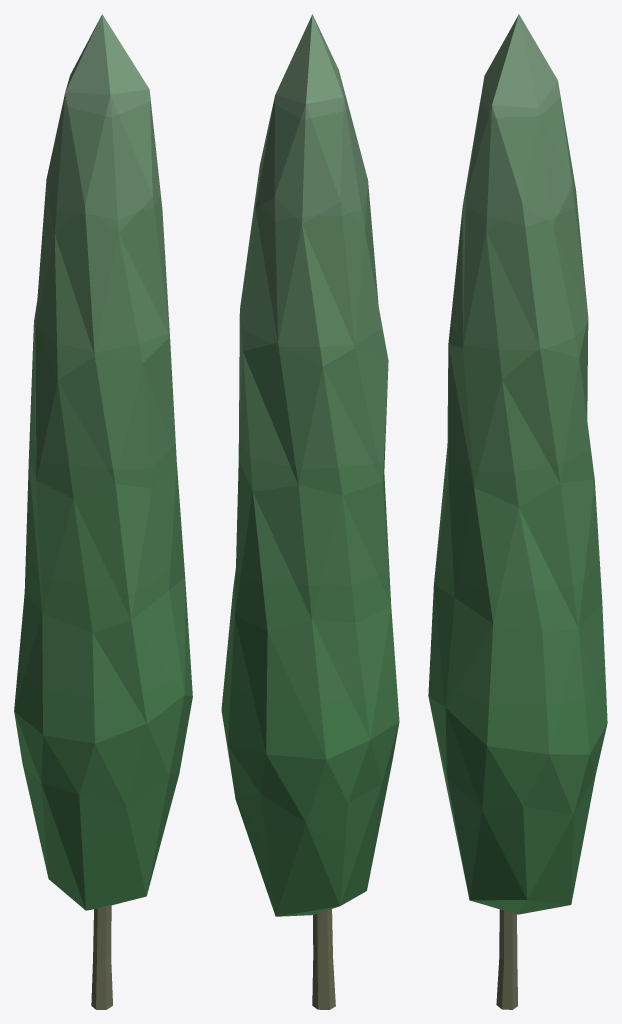
File: Poplar.fbx
The picture shows the model from 3 angles, left to right: view 1: azimuth 30°, elevation 25°; view 2: azimuth 150°, elevation 25°; view 3: azimuth 270°, elevation 25°; orthographic projection.
Visible parts, largest first — view 1: Poplar; view 2: Poplar; view 3: Poplar.
Part boxes in pixels (<box>): Poplar: <box>14,14,192,1009</box>; Poplar: <box>221,14,399,1009</box>; Poplar: <box>428,14,607,1009</box>.
Size of the model in its own units: 1.73 by 11.03 by 1.8.
